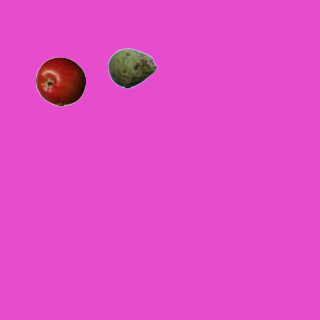Apple Braeburn: (35, 56, 85, 106)
Pear Stone: (107, 43, 157, 93)
